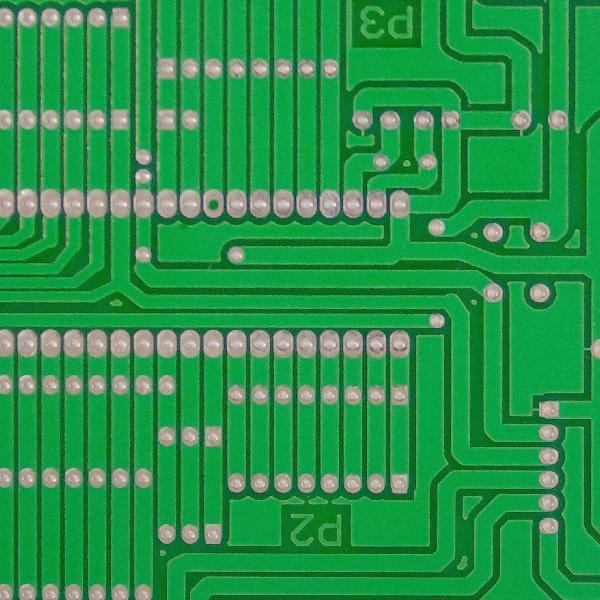missing_hole: (202, 188, 227, 216)
